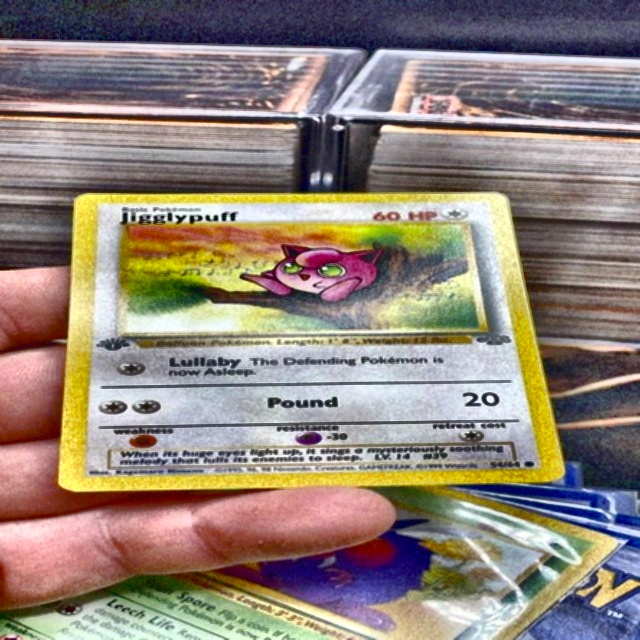card: (55, 191, 571, 493)
